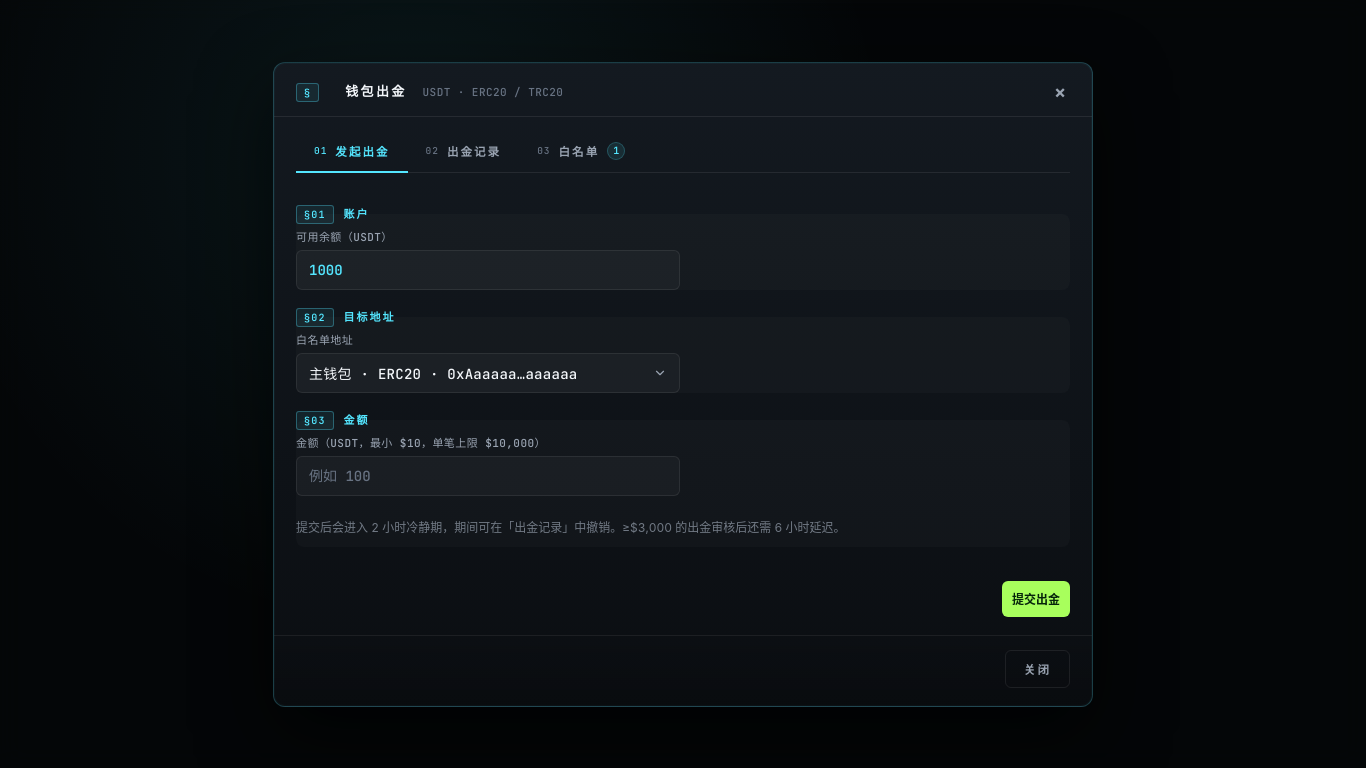
Test: WithdrawDrawer › TC-WD-FE-003 submits with selected ACTIVE whitelist and shows last-8 id
Expected: the text "主钱包 · ERC20 · 0xAaaaaa…aaaaaa" is shown, x1=309 y1=364 x2=578 y2=382
Type "100" into the field with placeholder "例如 100" at (488, 476), box x1=296 y1=456 x2=680 y2=496
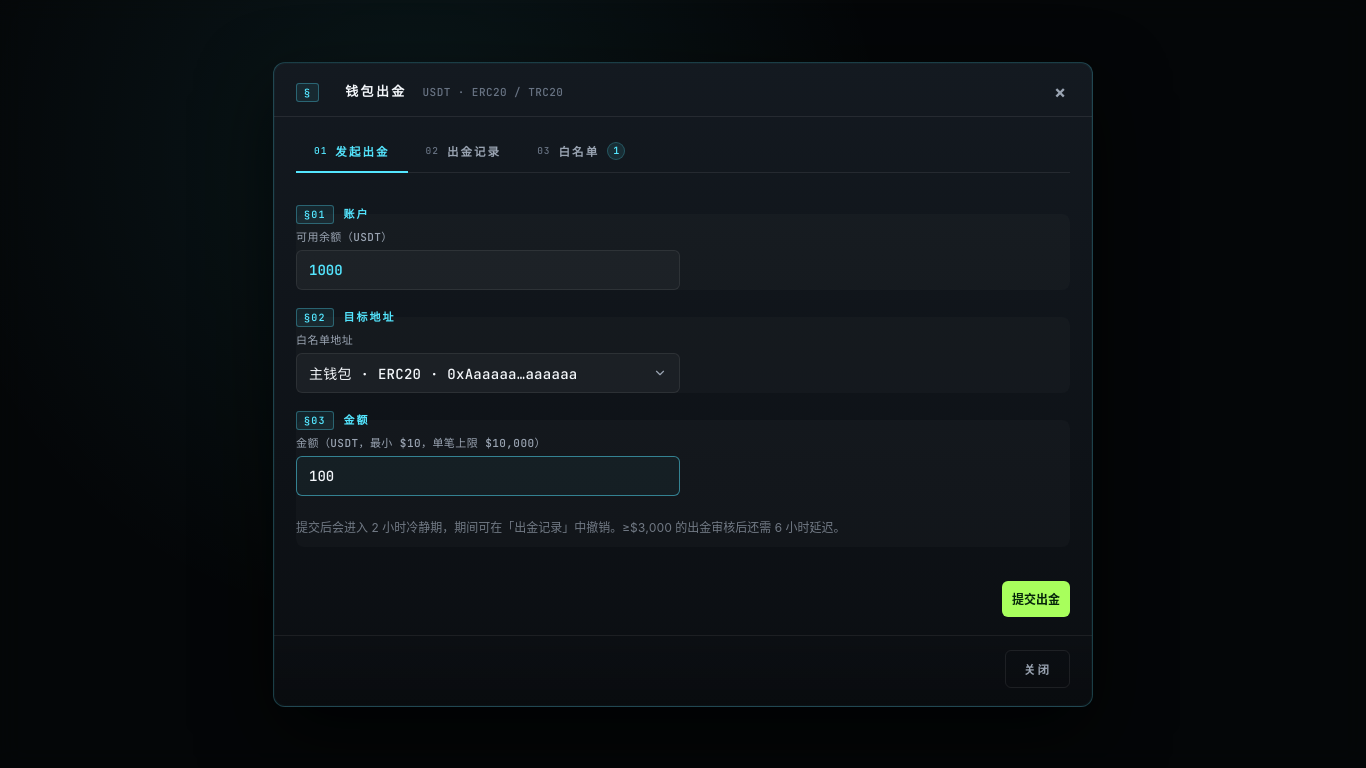
Click the button "提交出金" at (1036, 598), box x1=1002 y1=580 x2=1070 y2=616
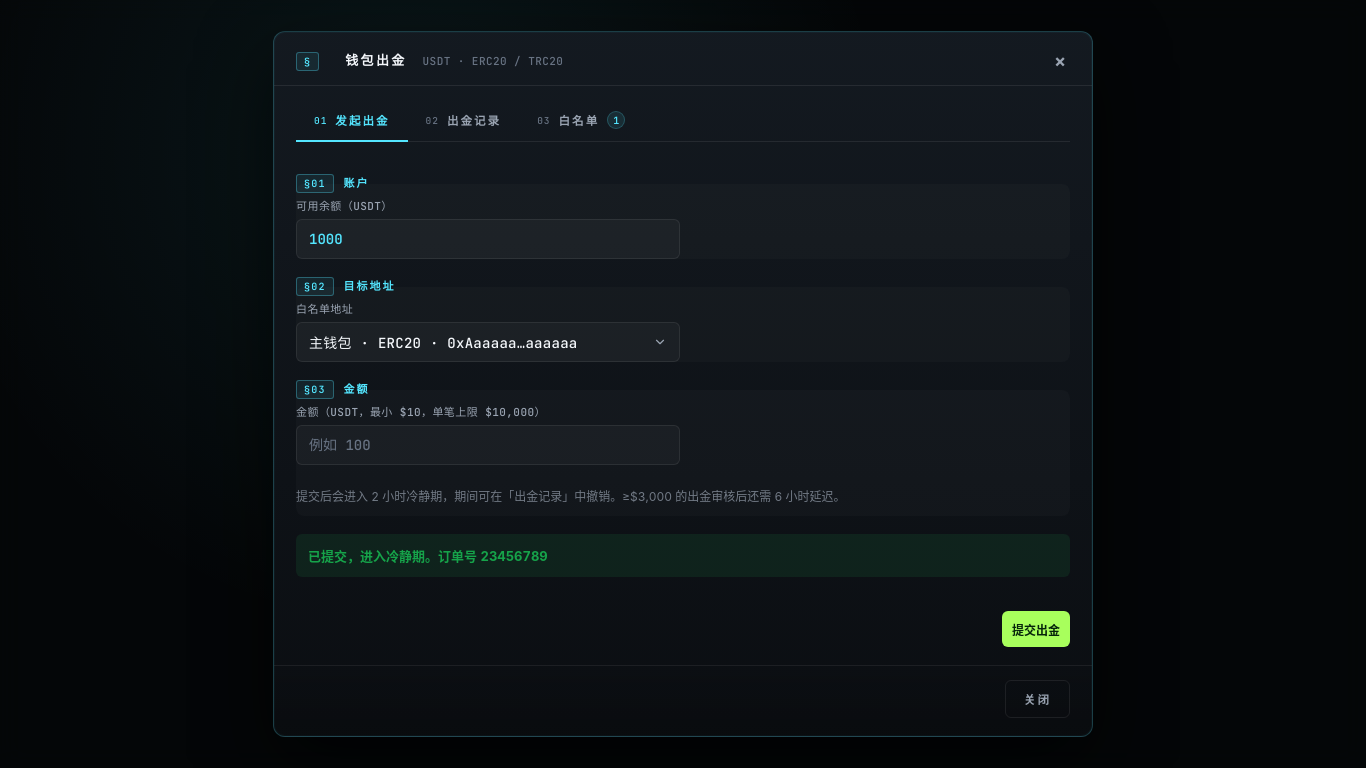
Expected: the text "已提交，进入冷静期。订单号 23456789" is shown, x1=296 y1=534 x2=1070 y2=577
